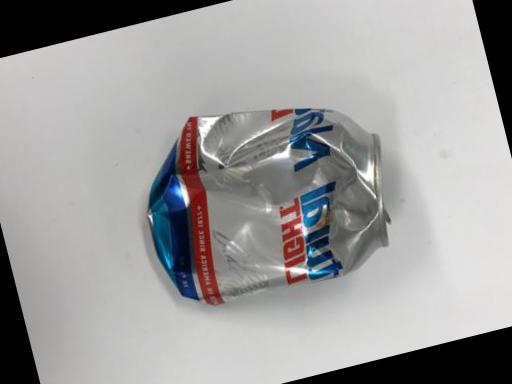metal: (97, 49, 421, 338)
